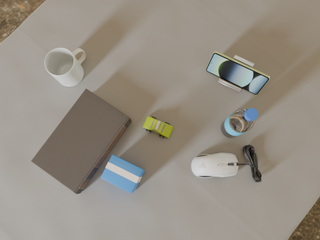book: (31, 89, 131, 194)
bottle: (221, 108, 258, 138)
box: (101, 155, 145, 193)
cup: (45, 48, 86, 87)
mouse: (191, 153, 240, 178)
phone: (206, 51, 270, 94)
toy_car: (143, 116, 173, 138)
